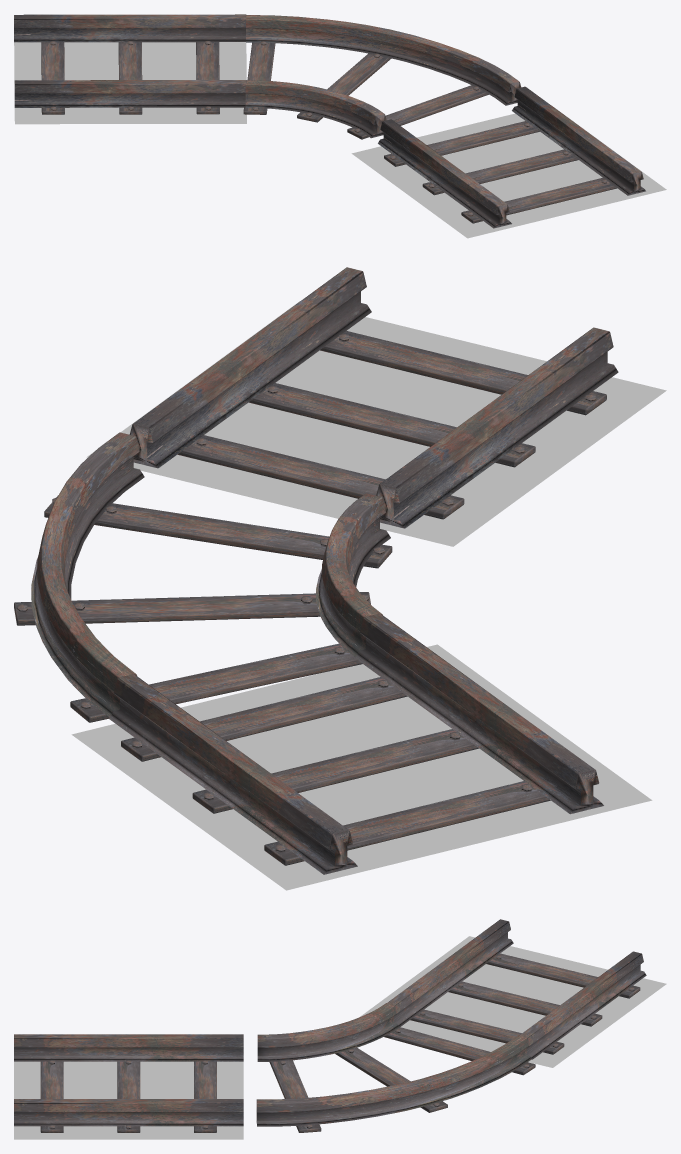
Rendered from rails(formats)AlanUpdate2.fbx.
3 views of the same model, one above another, from view 1: azimuth 30°, elevation 25°; view 2: azimuth 150°, elevation 25°; view 3: azimuth 270°, elevation 25° (orthographic). The views are drawn at different scales.
Parts seen in each view (by area): view 1: rayH (×2), taslarH (×2), rayC; view 2: rayH (×2), taslarH (×2), rayC; view 3: rayH (×2), taslarH (×2), rayC.
Part boxes in pixels (bbox=[...]): rayH (×2): bbox=[14, 14, 645, 228]; taslarH (×2): bbox=[14, 42, 666, 238]; rayC: bbox=[243, 15, 520, 139]; rayH (×2): bbox=[109, 267, 618, 874]; taslarH (×2): bbox=[71, 301, 666, 890]; rayC: bbox=[14, 432, 392, 722]; rayH (×2): bbox=[14, 919, 646, 1132]; taslarH (×2): bbox=[14, 936, 666, 1139]; rayC: bbox=[256, 1003, 535, 1132].
Size of the model in its own units: 629 by 35.02 by 853.
